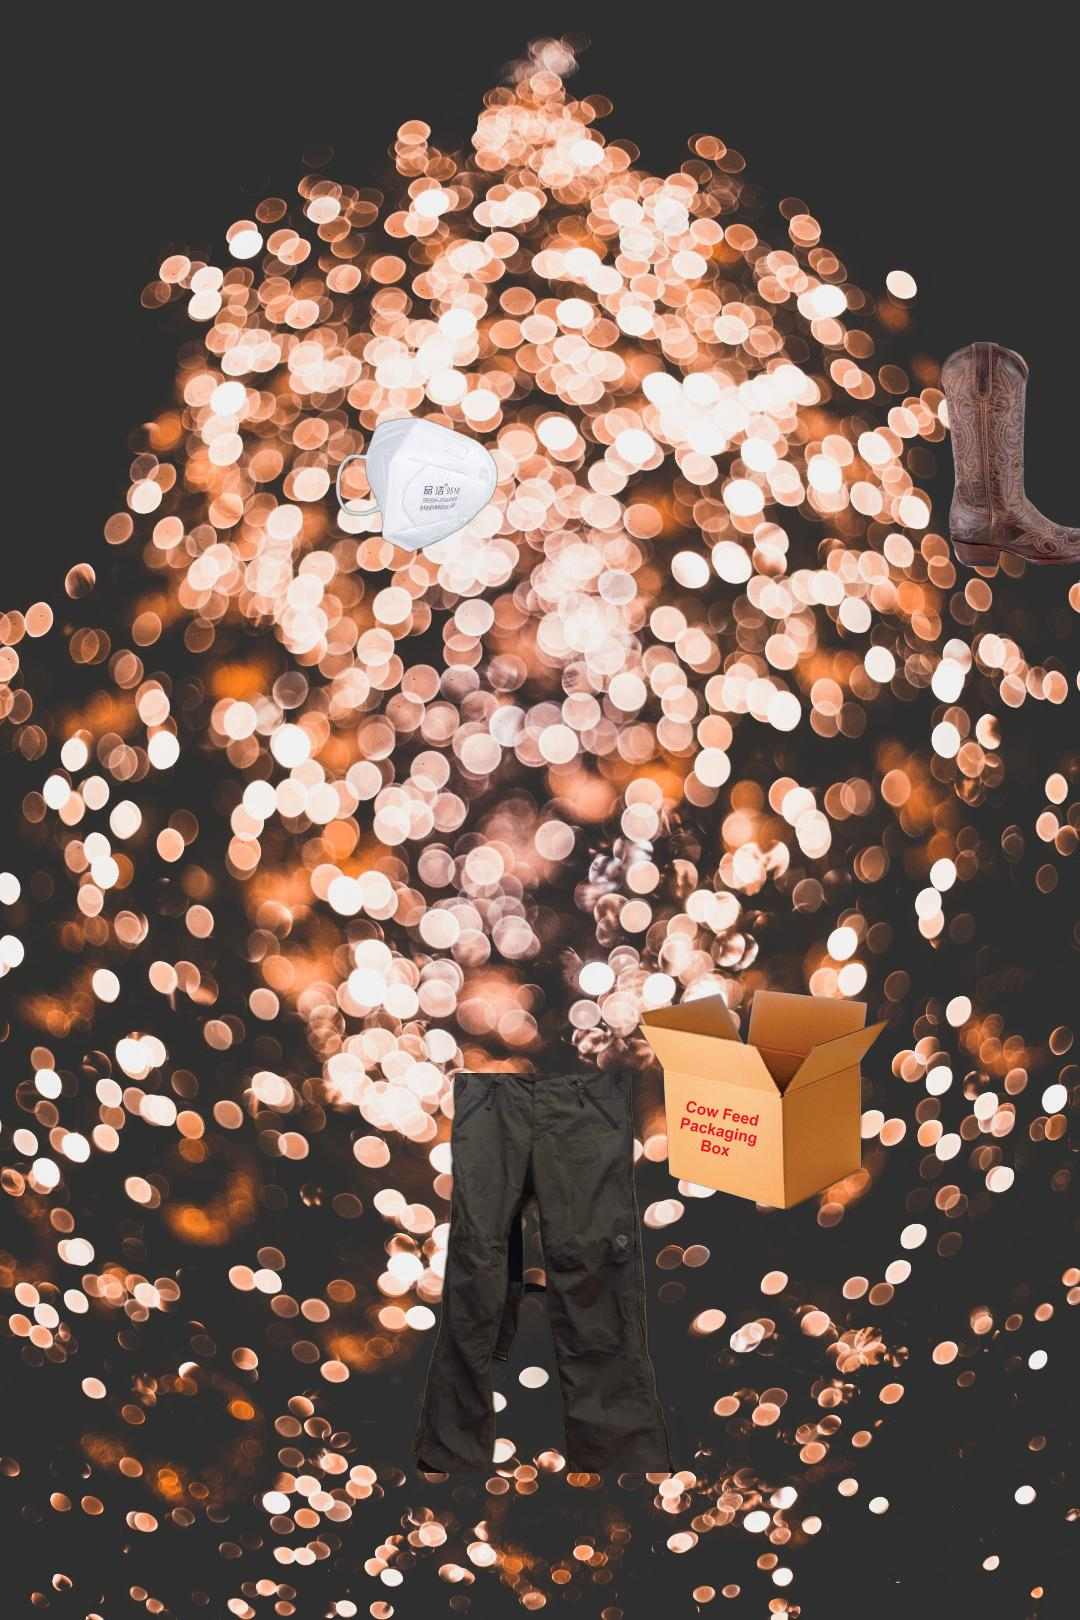clothes: (407, 1073, 718, 1473)
shoes: (938, 339, 1080, 570)
trash: (333, 415, 536, 554)
trashbox-cardboard: (639, 990, 890, 1211)
